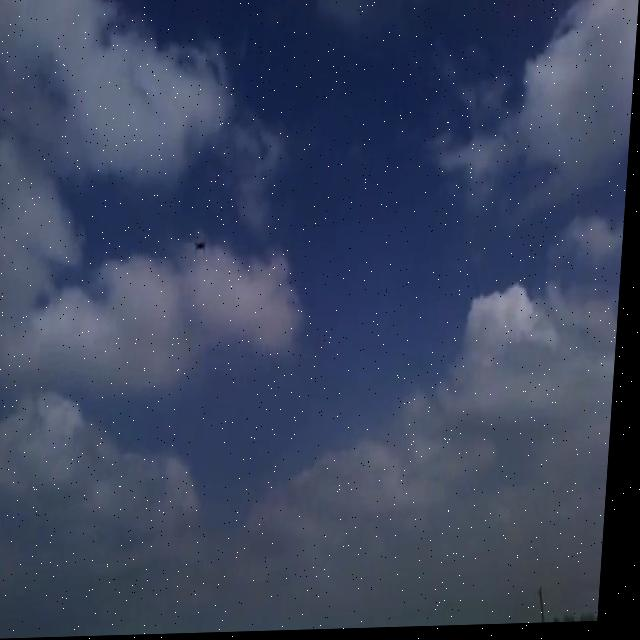drone: (195, 237, 211, 257)
